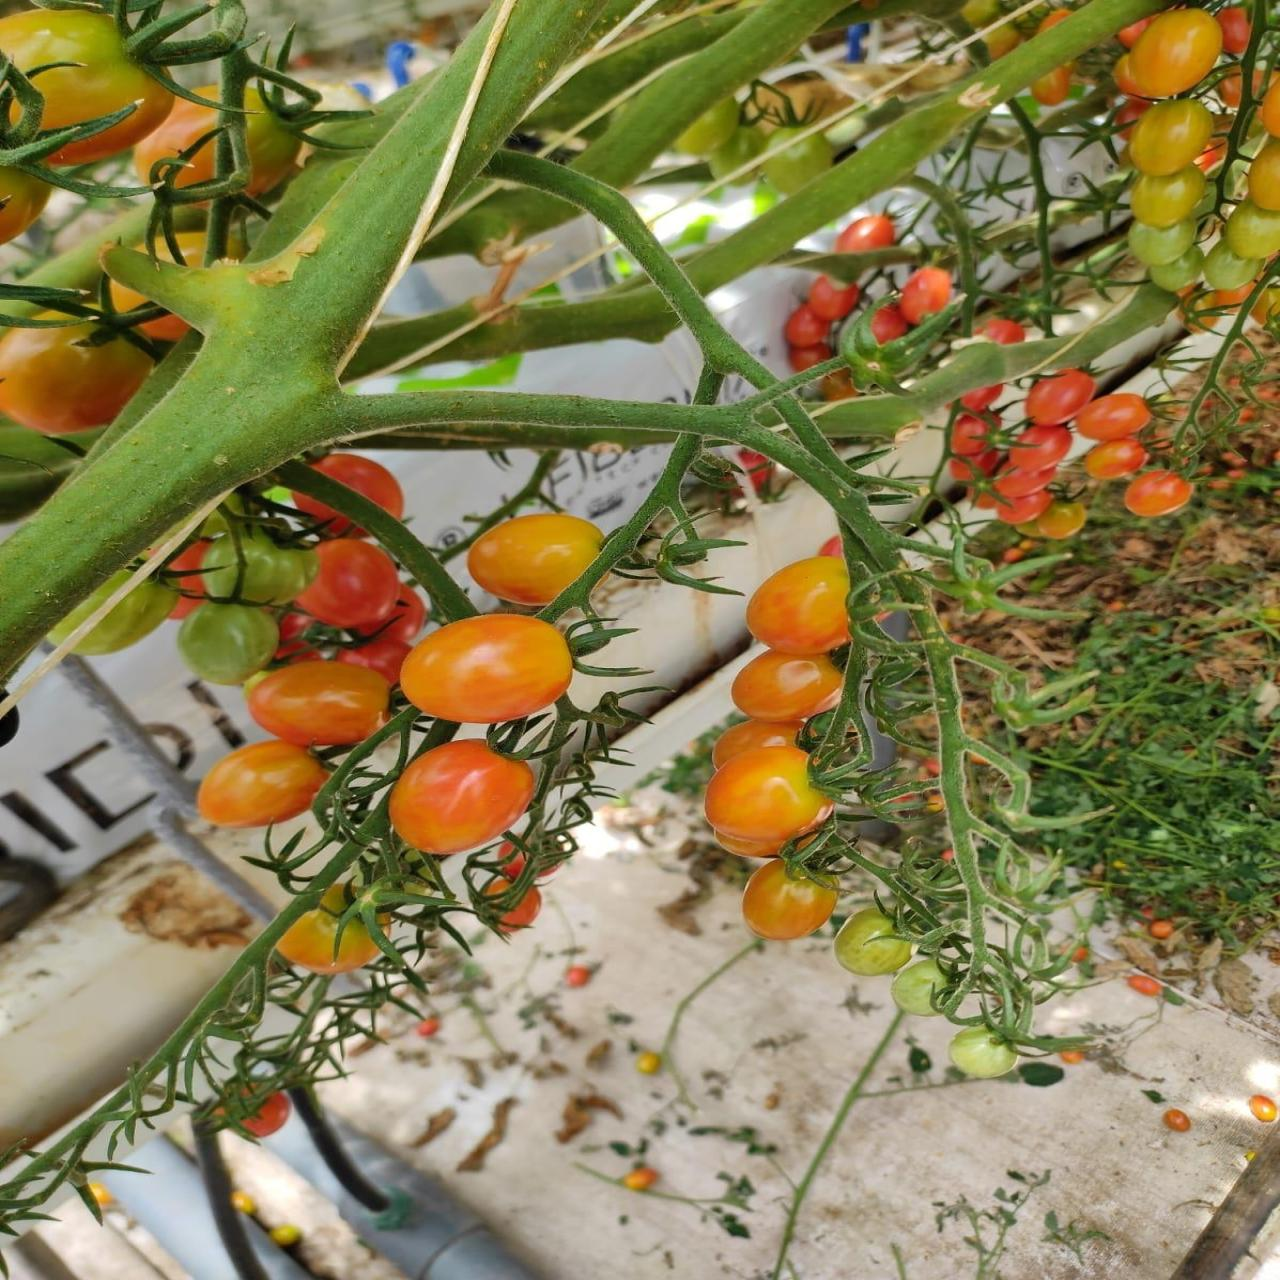T_F_H: (402, 617, 572, 724), (389, 741, 536, 855), (469, 516, 606, 606)
T_F_R: (706, 745, 833, 844), (248, 661, 392, 745), (745, 556, 850, 656), (733, 651, 843, 724), (743, 862, 840, 941), (833, 908, 913, 976)
T_S_R: (922, 634, 980, 900)
